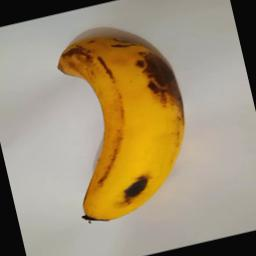Banana Unripe: (47, 20, 206, 224)
